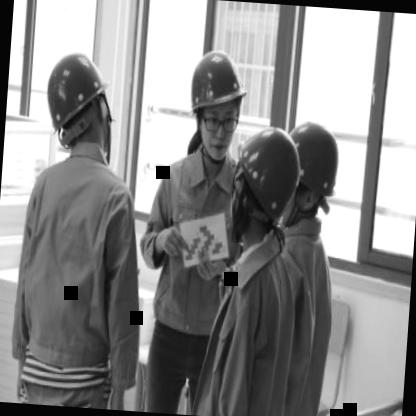helmet: (228, 116, 320, 248), (38, 39, 126, 171), (182, 37, 254, 164), (282, 116, 352, 233)
